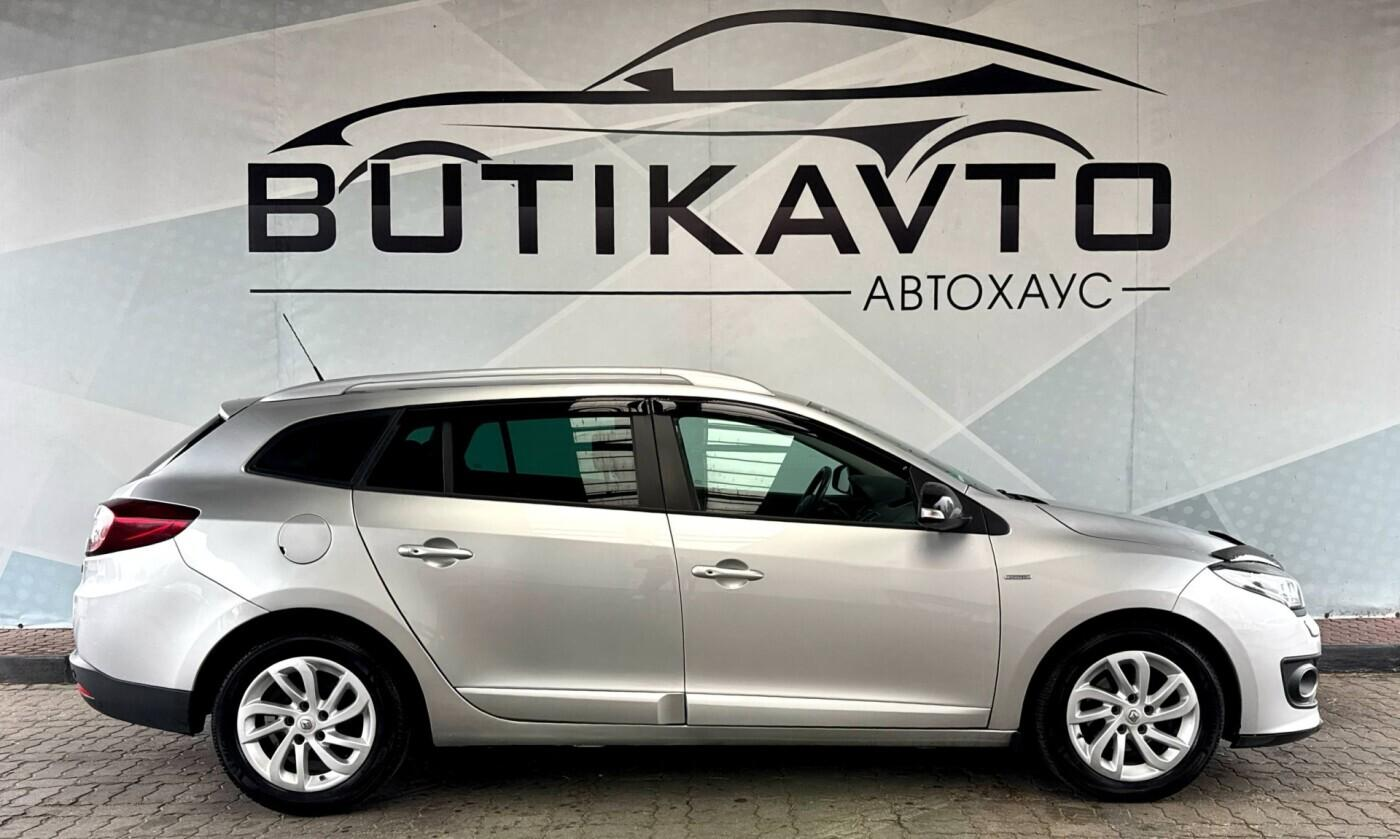Megane_2014-2016: (58, 373, 1324, 811)
